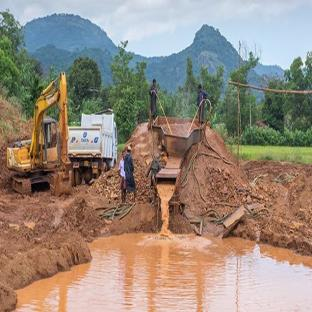ExcavationMachinery: (5, 72, 72, 203)
Person: (125, 143, 137, 199), (119, 144, 128, 200)
ProcessingEquipment: (145, 102, 211, 209)
Vehicle: (67, 109, 120, 187)
